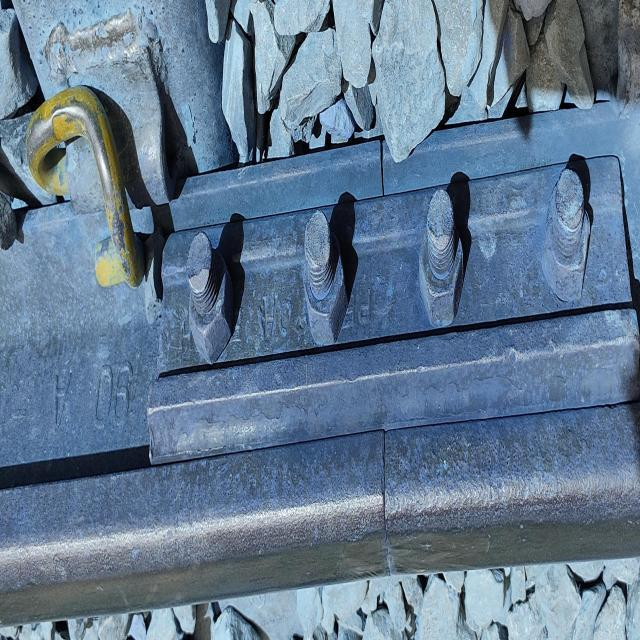Good Fasteners: (11, 0, 236, 287)
Good Joint: (144, 155, 637, 458)
